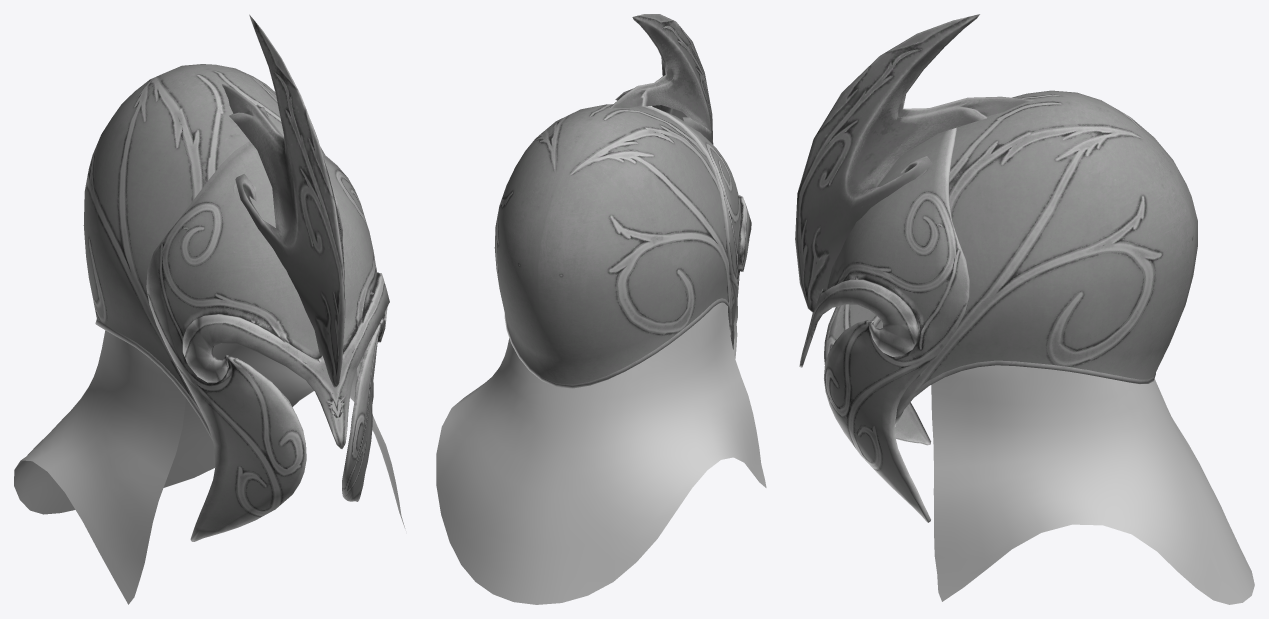
Rendered from rivendell_helmet_cavalry_tier2_silver.fbx.
3 views of the same model, side by side, from view 1: azimuth 30°, elevation 25°; view 2: azimuth 150°, elevation 25°; view 3: azimuth 270°, elevation 25° (orthographic). The views are drawn at different scales.
Visible parts, largest first — view 1: rivendell_helmet_cavalry_tier2_silver.1, rivendell_helmet_cavalry_tier2_silver.2, rivendell_helmet_cavalry_tier2_silver.0; view 2: rivendell_helmet_cavalry_tier2_silver.2, rivendell_helmet_cavalry_tier2_silver.1, rivendell_helmet_cavalry_tier2_silver.0; view 3: rivendell_helmet_cavalry_tier2_silver.1, rivendell_helmet_cavalry_tier2_silver.2, rivendell_helmet_cavalry_tier2_silver.0.
Part boxes in pixels (x1,y1,x2,y2): rivendell_helmet_cavalry_tier2_silver.1: (83, 64, 389, 541); rivendell_helmet_cavalry_tier2_silver.2: (14, 330, 405, 604); rivendell_helmet_cavalry_tier2_silver.0: (221, 14, 345, 387); rivendell_helmet_cavalry_tier2_silver.2: (436, 302, 766, 604); rivendell_helmet_cavalry_tier2_silver.1: (494, 104, 751, 388); rivendell_helmet_cavalry_tier2_silver.0: (609, 14, 713, 144); rivendell_helmet_cavalry_tier2_silver.1: (799, 90, 1197, 522); rivendell_helmet_cavalry_tier2_silver.2: (931, 365, 1254, 604); rivendell_helmet_cavalry_tier2_silver.0: (795, 14, 1033, 312).
Bounding box in the file's own units: 0.259 × 0.3499 × 0.4798.
